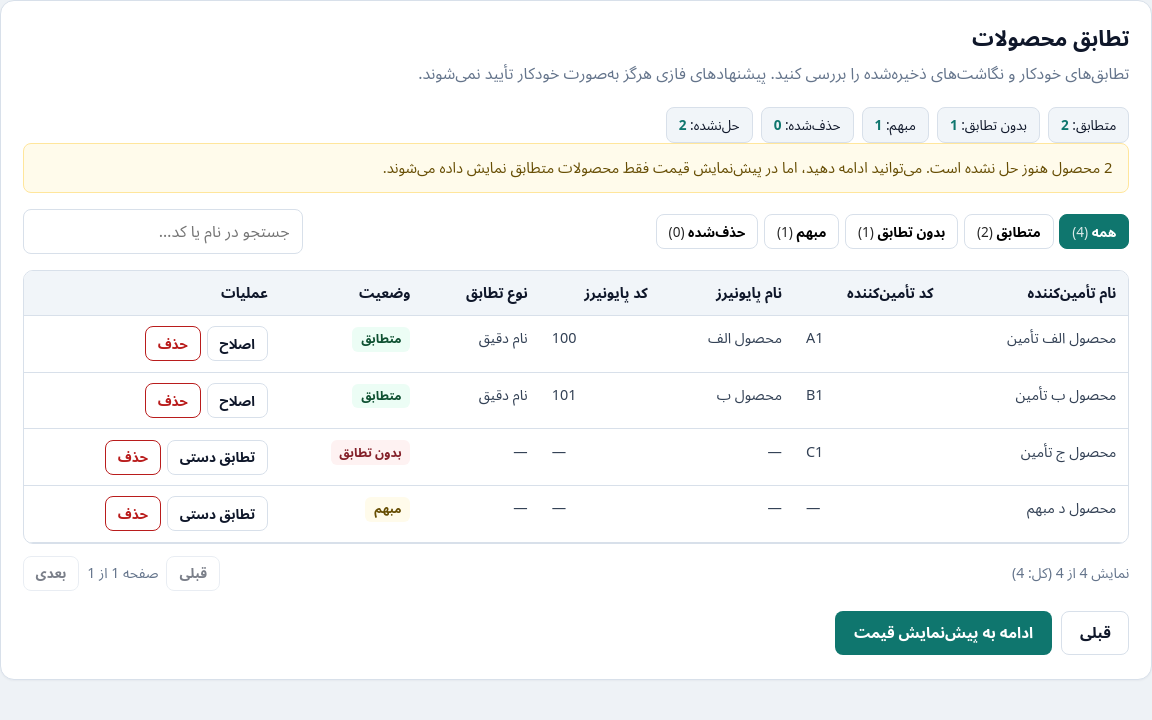
Scenario: MatchingStep › filters by unmatched tab
Check: the text "محصول الف تأمین" is shown, box [946,315,1128,372]
Click the tab "بدون تطابق (1)" at (902, 231), box [845,214,958,249]
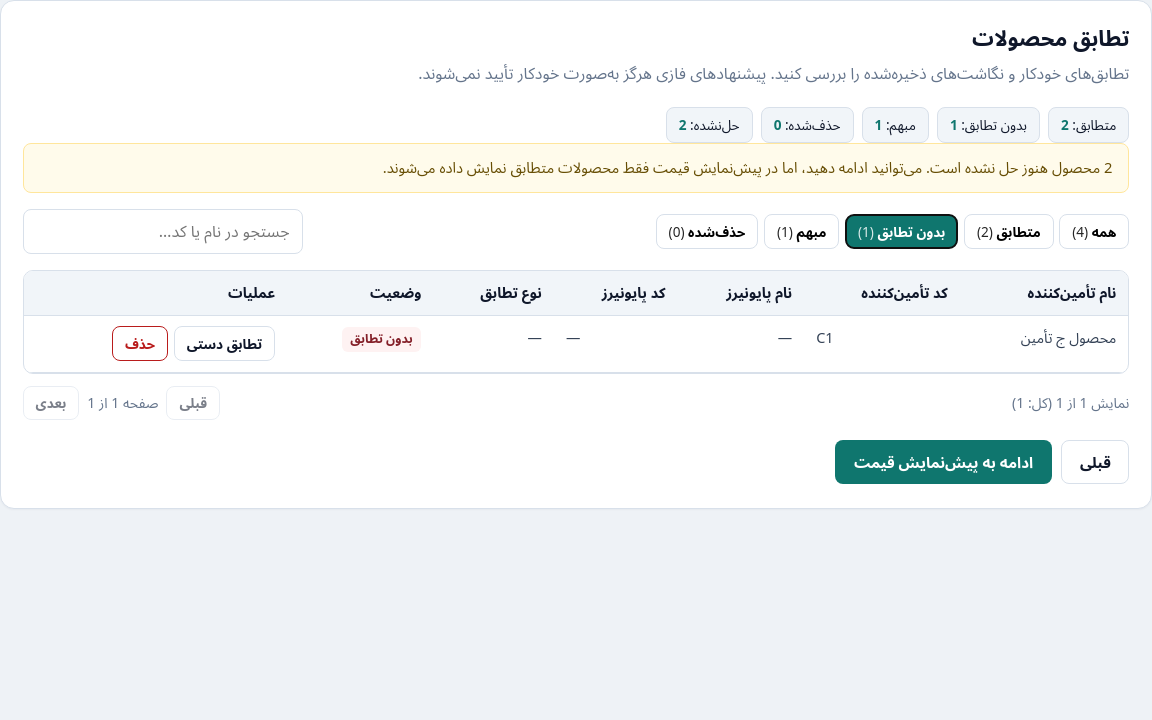
Check: the text "محصول ج تأمین" is shown, box [960,315,1128,372]
Check: the text "محصول الف تأمین" is gone
Check: the text "محصول د مبهم" is gone
